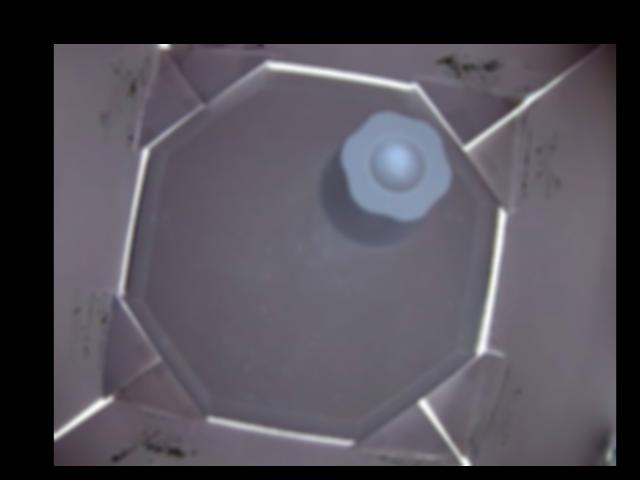Cup: (317, 111, 452, 247)
